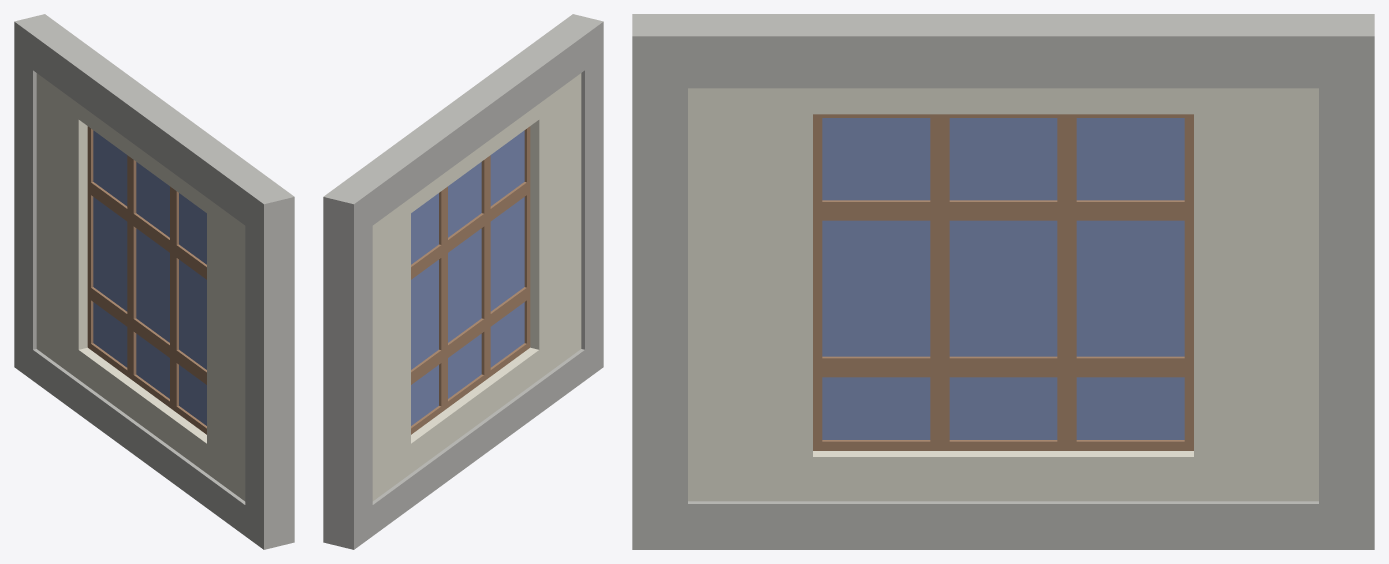
The model's file is Window02_house2.fbx.
3 views of the same model, side by side, from view 1: azimuth 30°, elevation 25°; view 2: azimuth 150°, elevation 25°; view 3: azimuth 270°, elevation 25° (orthographic). The views are drawn at different scales.
Visible parts, largest first — view 1: Window02_house02; view 2: Window02_house02; view 3: Window02_house02.
Boxes of the visible parts, x1,y1,x2,y2 form: Window02_house02: (14, 14, 294, 549); Window02_house02: (323, 14, 603, 549); Window02_house02: (632, 14, 1374, 549).
Bounding box in the file's own units: 34.17 × 367 × 481.
